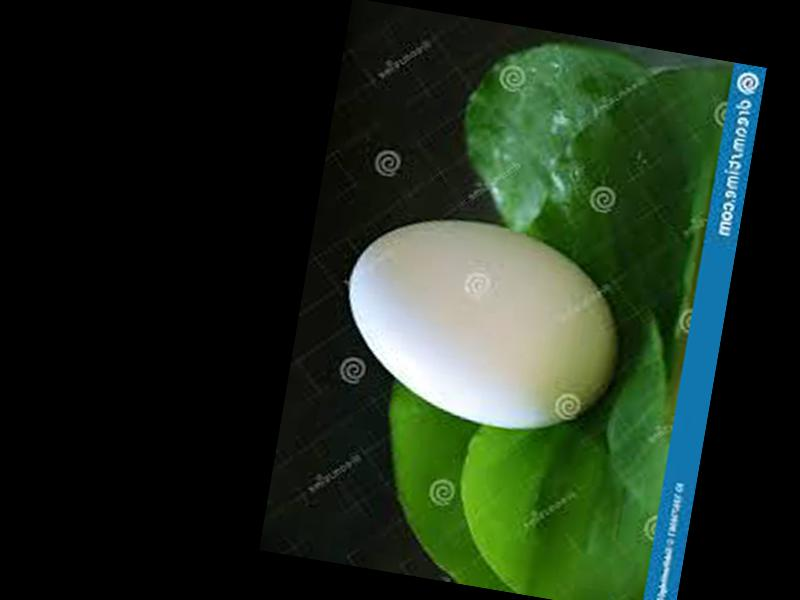Eggs: (329, 202, 634, 444)
